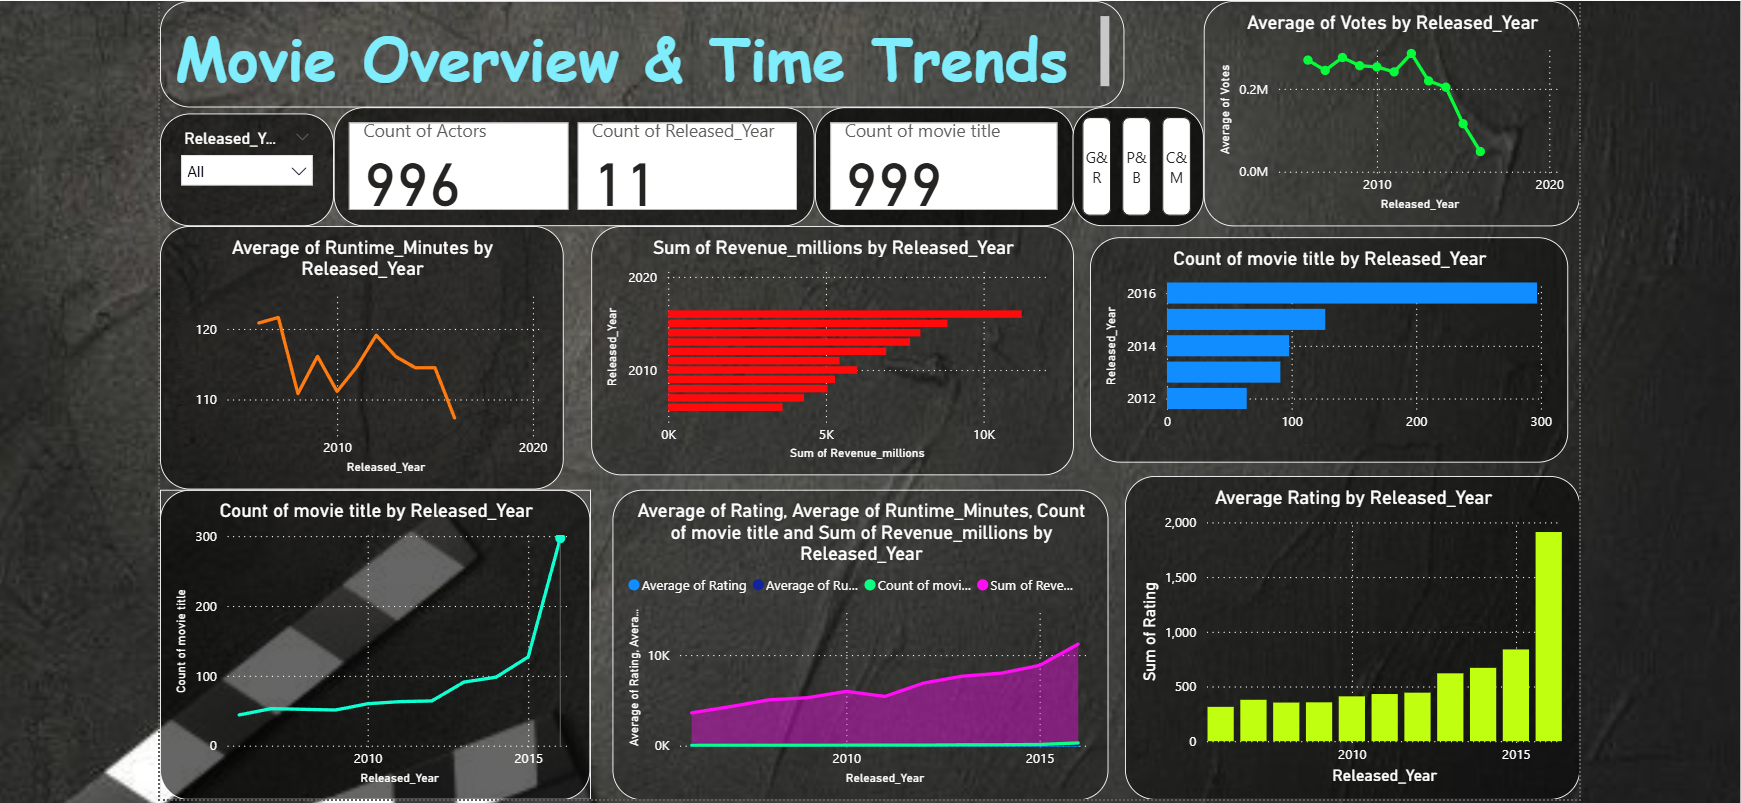

The page's visual inventory and layout, read from the dashboard file:
{"tool":"powerbi","page":{"name":"OT","canvas":[1280,720],"ordinal":0},"visuals":[{"type":"lineChart","fields":{"Category":["IMDB-Movie-Data.Released_Year"],"Y":["Count(IMDB-Movie-Data.Title)"]},"box":[0,440.5,388.3,279.9],"z":0},{"type":"barChart","fields":{"Y":["Sum(IMDB-Movie-Data.Revenue_millions)"],"Category":["IMDB-Movie-Data.Released_Year"]},"box":[388.3,203.1,435,225],"z":1000},{"type":"columnChart","title":"Average Rating by Released_Year","fields":{"Y":["Sum(IMDB-Movie-Data.Rating)"],"Category":["IMDB-Movie-Data.Released_Year"]},"box":[870,428.1,410.3,292.3],"z":2000},{"type":"lineChart","fields":{"Y":["Avg(IMDB-Movie-Data.Runtime_Minutes)"],"Category":["IMDB-Movie-Data.Released_Year"]},"box":[0,203.1,363.6,237.4],"z":3000},{"type":"barChart","fields":{"Y":["CountNonNull(IMDB-Movie-Data.movie title)"],"Category":["IMDB-Movie-Data.Released_Year"]},"box":[838.4,212.7,430.9,203.1],"z":4000},{"type":"lineChart","fields":{"Y":["Avg(IMDB-Movie-Data.Votes)"],"Category":["IMDB-Movie-Data.Released_Year"]},"box":[941.3,0,338.9,203.1],"z":5000},{"type":"lineChart","fields":{"Category":["IMDB-Movie-Data.Released_Year"],"Y":["Avg(IMDB-Movie-Data.Rating)","Avg(IMDB-Movie-Data.Runtime_Minutes)","CountNonNull(IMDB-Movie-Data.movie title)","Sum(IMDB-Movie-Data.Revenue_millions)"]},"box":[407.5,440.5,447.3,279.9],"z":6000},{"type":"slicer","fields":{"Values":["IMDB-Movie-Data.Released_Year"]},"box":[0,101.5,156.4,101.5],"z":7000},{"type":"cardVisual","fields":{"Data":["Count(IMDB-Movie-Data.movie title)"]},"box":[590.1,96.1,233.3,107],"z":8000},{"type":"cardVisual","fields":{"Data":["Count(IMDB-Movie-Data.Actors)","Count(IMDB-Movie-Data.Released_Year)"]},"box":[156.4,96.1,433.6,107],"z":9000},{"type":"textbox","box":[0,0,870,96.1],"z":10000},{"type":"pageNavigator","box":[823.3,96.1,118,107],"z":11000}]}

Visuals, with their boxes in screenshot pixels (x1, y1, x2, y2):
lineChart - IMDB-Movie-Data.Released_Year x Count(IMDB-Movie-Data.Title): Rect(159, 498, 585, 802)
barChart - Sum(IMDB-Movie-Data.Revenue_millions) x IMDB-Movie-Data.Released_Year: Rect(585, 237, 1064, 484)
"Average Rating by Released_Year" columnChart: Rect(1115, 484, 1566, 802)
lineChart - Avg(IMDB-Movie-Data.Runtime_Minutes) x IMDB-Movie-Data.Released_Year: Rect(159, 237, 558, 498)
barChart - CountNonNull(IMDB-Movie-Data.movie title) x IMDB-Movie-Data.Released_Year: Rect(1080, 247, 1554, 471)
lineChart - Avg(IMDB-Movie-Data.Votes) x IMDB-Movie-Data.Released_Year: Rect(1193, 14, 1566, 237)
lineChart - IMDB-Movie-Data.Released_Year x Avg(IMDB-Movie-Data.Rating): Rect(607, 498, 1098, 802)
slicer - IMDB-Movie-Data.Released_Year: Rect(159, 125, 331, 237)
cardVisual - Count(IMDB-Movie-Data.movie title): Rect(807, 119, 1064, 237)
cardVisual - Count(IMDB-Movie-Data.Actors) x Count(IMDB-Movie-Data.Released_Year): Rect(331, 119, 807, 237)
textbox: Rect(159, 14, 1115, 119)
pageNavigator: Rect(1064, 119, 1193, 237)
